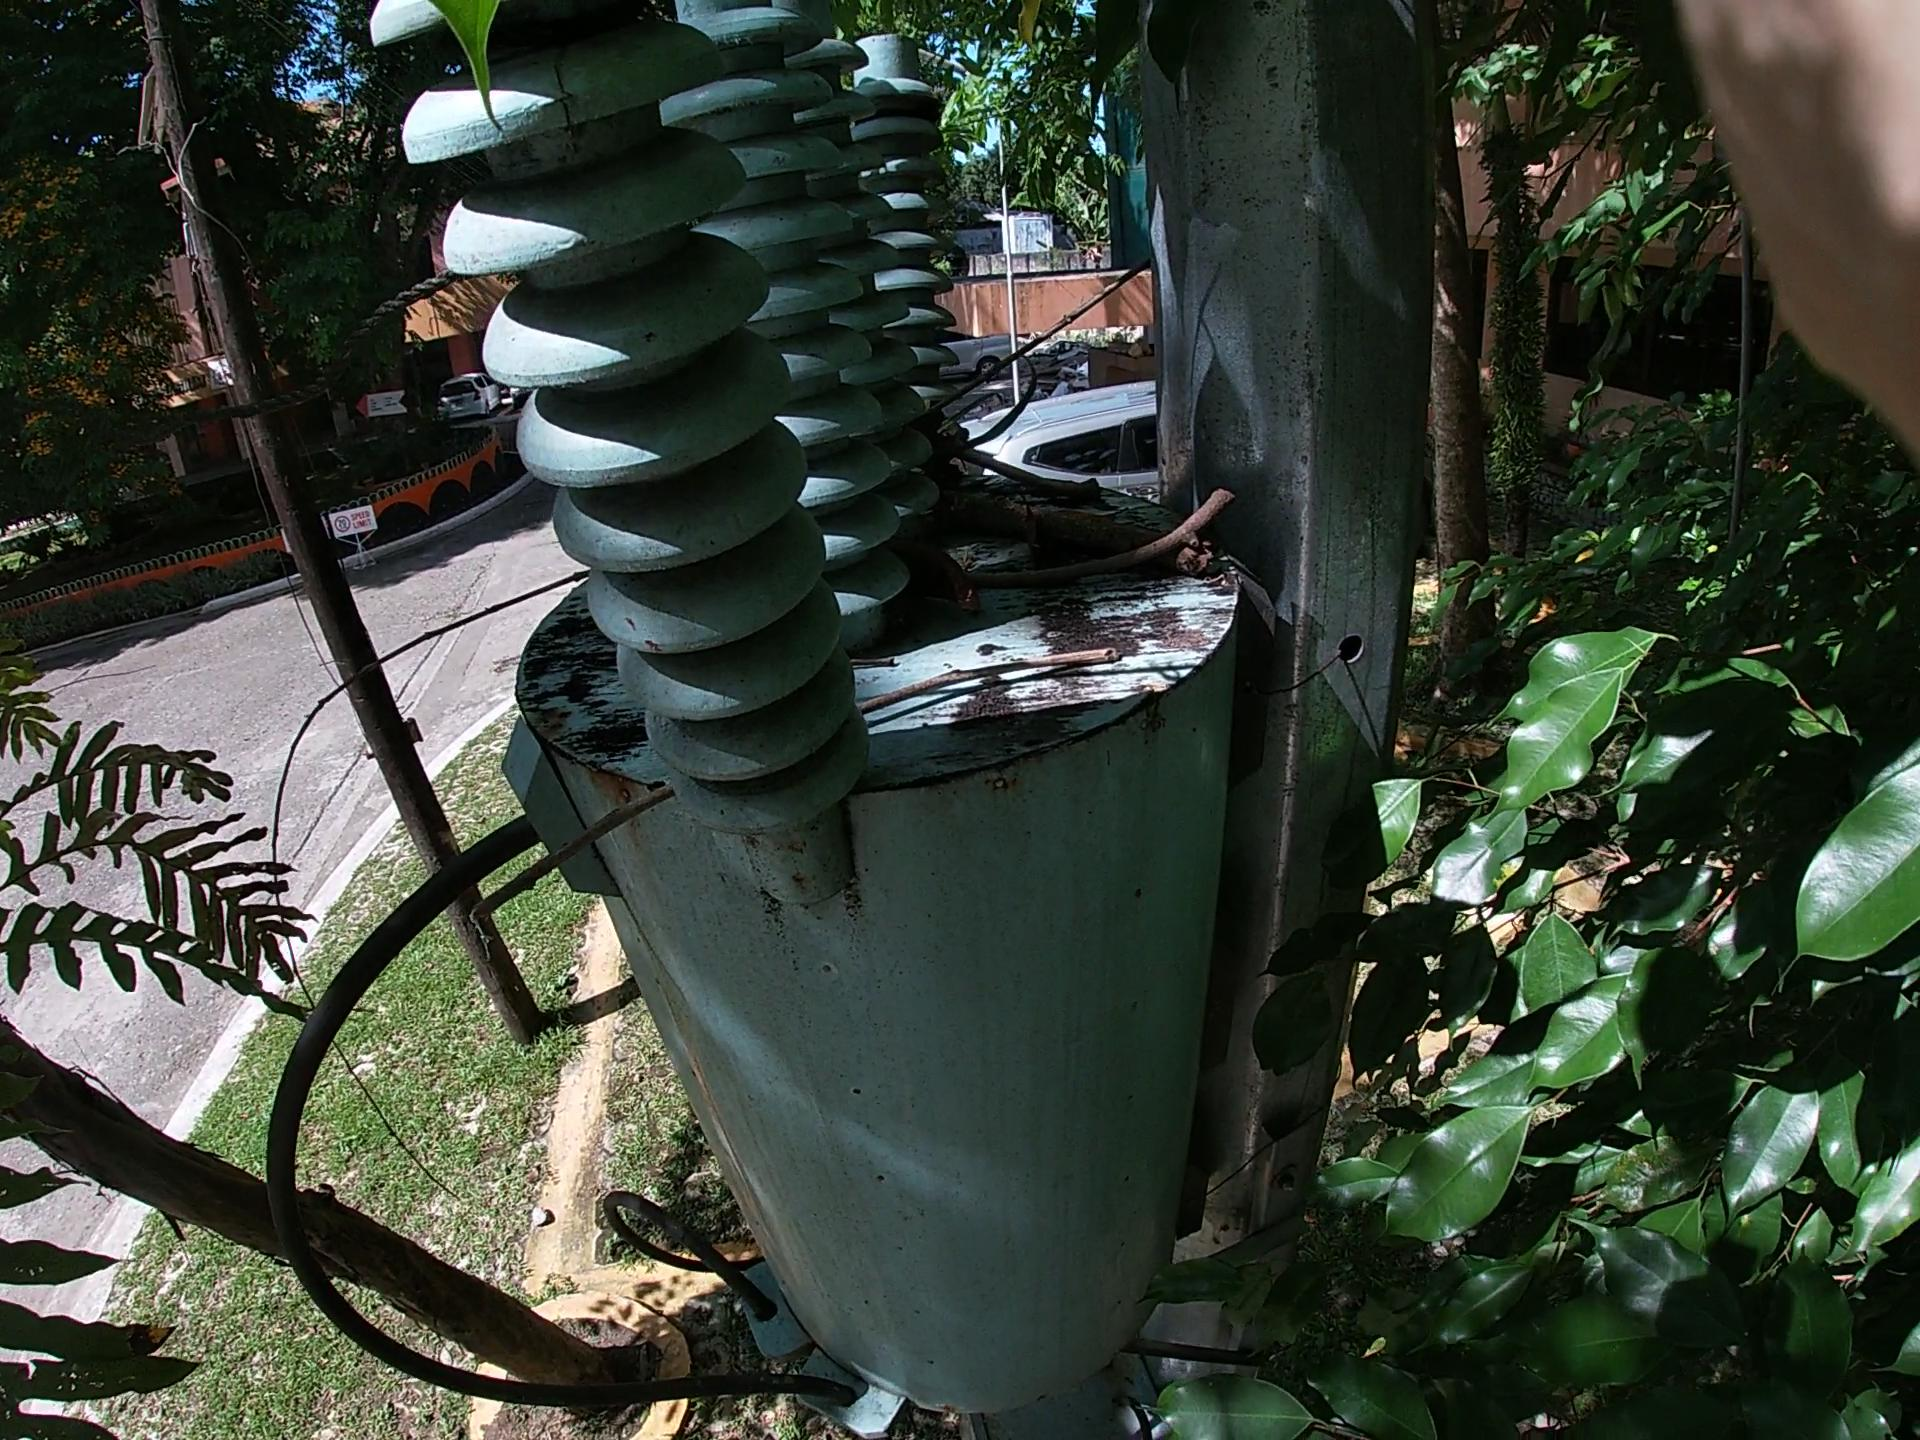leaf: (996, 501, 1172, 626)
tree branch: (454, 594, 1132, 961), (831, 219, 1208, 511), (862, 445, 1377, 646), (906, 413, 1172, 514)
